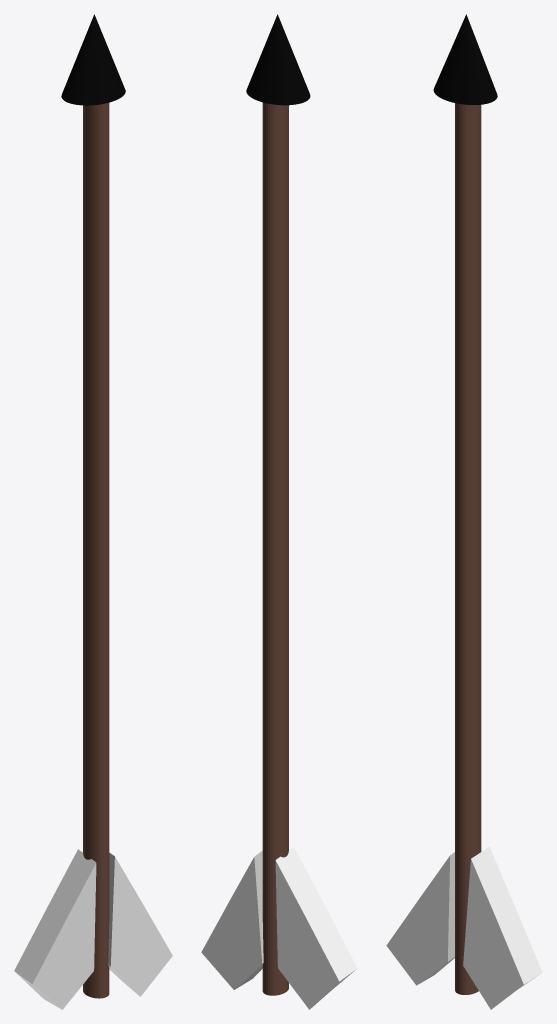
Rendered from Arrows.obj.
3 renders of one model, left to right at view 1: azimuth 30°, elevation 25°; view 2: azimuth 150°, elevation 25°; view 3: azimuth 330°, elevation 25°, orthographic.
Visible parts, largest first — view 1: body_円柱, LeftWing_立方体, LeftWing.001_立方体.001, Tip_円錐; view 2: body_円柱, LeftWing_立方体, LeftWing.001_立方体.001, Tip_円錐; view 3: body_円柱, LeftWing.001_立方体.001, LeftWing_立方体, Tip_円錐.
Part boxes in pixels (<box>): body_円柱: <box>83,102,109,998</box>; LeftWing_立方体: <box>14,849,96,1009</box>; LeftWing.001_立方体.001: <box>108,852,172,996</box>; Tip_円錐: <box>61,14,125,105</box>; body_円柱: <box>262,102,288,995</box>; LeftWing_立方体: <box>275,847,357,1009</box>; LeftWing.001_立方体.001: <box>201,850,263,989</box>; Tip_円錐: <box>246,14,310,105</box>; body_円柱: <box>455,103,481,994</box>; LeftWing.001_立方体.001: <box>463,847,542,1009</box>; LeftWing_立方体: <box>386,852,454,985</box>; Tip_円錐: <box>433,14,497,104</box>.
Size of the model in its own units: 0.8228 by 5.54 by 0.2647.
3 materials, 3 textured.
